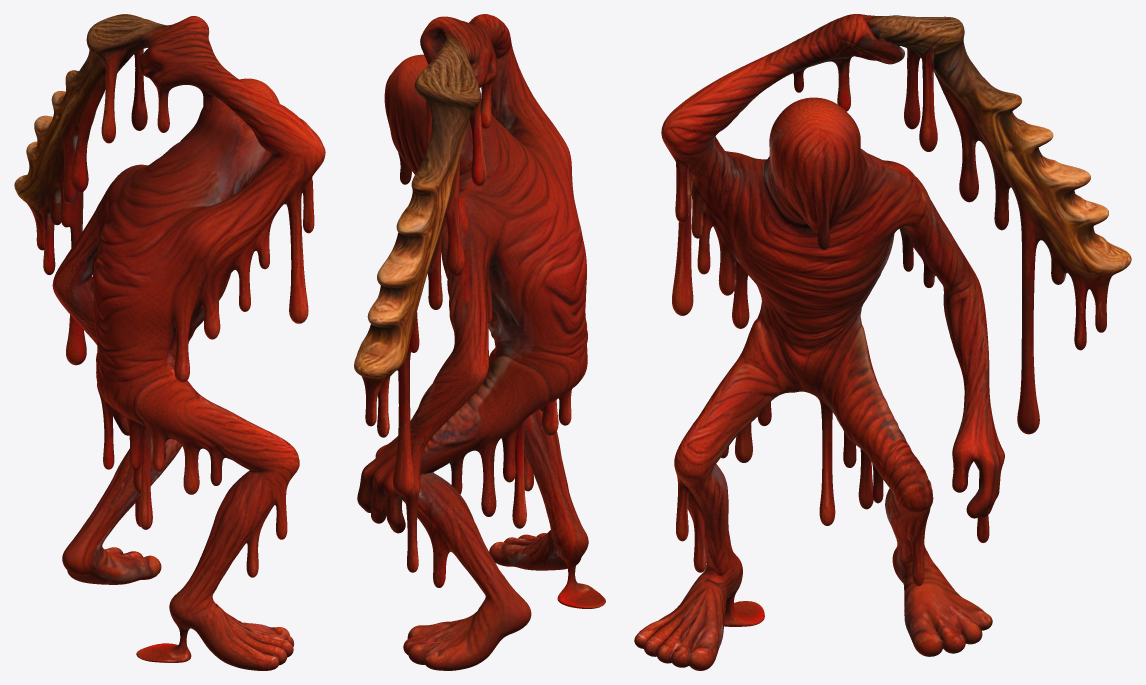
Rendered from Crimson Plague Soldier.glb.
3 views of the same model, side by side, from view 1: azimuth 30°, elevation 25°; view 2: azimuth 150°, elevation 25°; view 3: azimuth 270°, elevation 25° (orthographic). The views are drawn at different scales.
Parts seen in each view (by area): view 1: tripo_node_7c42b45d-90a8-4d51-ae08-06f5d65a539e; view 2: tripo_node_7c42b45d-90a8-4d51-ae08-06f5d65a539e; view 3: tripo_node_7c42b45d-90a8-4d51-ae08-06f5d65a539e.
Boxes of the visible parts, x1,y1,x2,y2 form: tripo_node_7c42b45d-90a8-4d51-ae08-06f5d65a539e: (14,14,325,670); tripo_node_7c42b45d-90a8-4d51-ae08-06f5d65a539e: (354,14,605,670); tripo_node_7c42b45d-90a8-4d51-ae08-06f5d65a539e: (634,14,1131,670).
Bounding box in the file's own units: 0.3221 × 1 × 0.6979.
Materials: 1 (1 with a texture image).
